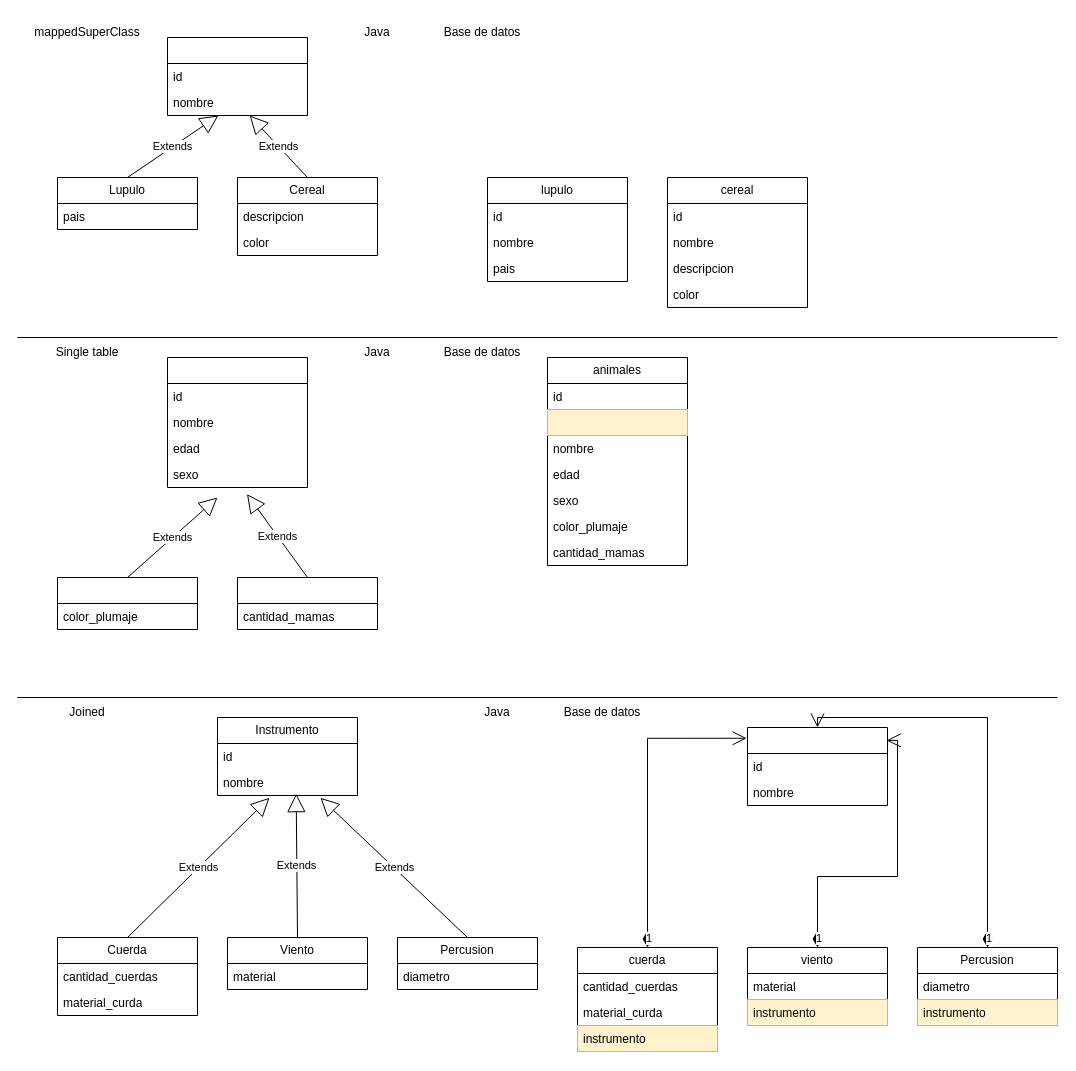
The diagram is 1076 pixels wide and 1071 high, and some of its shapes have lost their labels. Here are the shapes that lost their labels. From the top down, the box of each, then its label:
(166, 36, 308, 116): Producto
(166, 356, 308, 488): Animal
(546, 408, 688, 436): tipo_animal
(56, 576, 198, 630): Ave
(236, 576, 378, 630): Mamifero
(746, 726, 888, 806): Instrumentos
